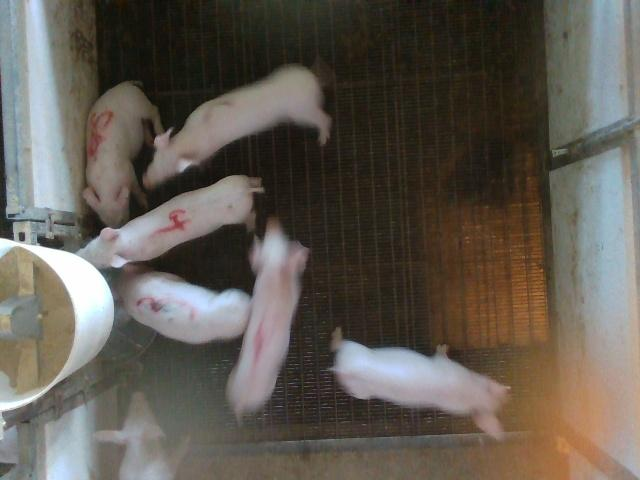pig-1: (226, 218, 309, 421)
pig-2: (144, 65, 331, 187)
pig-3: (116, 262, 251, 343)
pig-4: (78, 175, 262, 268)
pig-5: (82, 81, 164, 227)
